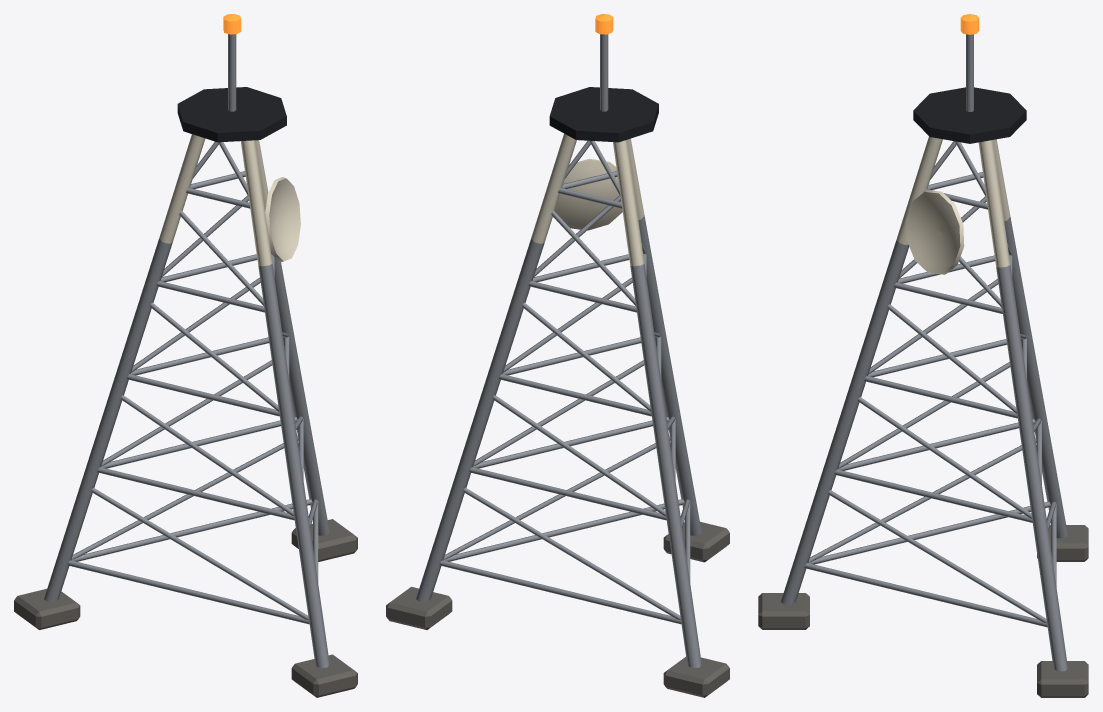
The model's file is antenna.glb.
The picture shows the model from 3 angles, left to right: view 1: azimuth 30°, elevation 25°; view 2: azimuth 150°, elevation 25°; view 3: azimuth 270°, elevation 25°; orthographic projection.
Visible parts, largest first — view 1: antenna_mesh; view 2: antenna_mesh; view 3: antenna_mesh.
Part boxes in pixels (x1,y1,x2,y2): antenna_mesh: (14, 14, 357, 697); antenna_mesh: (386, 14, 729, 697); antenna_mesh: (758, 14, 1088, 697).
Bounding box in the file's own units: 3.62 × 6.48 × 3.2.
